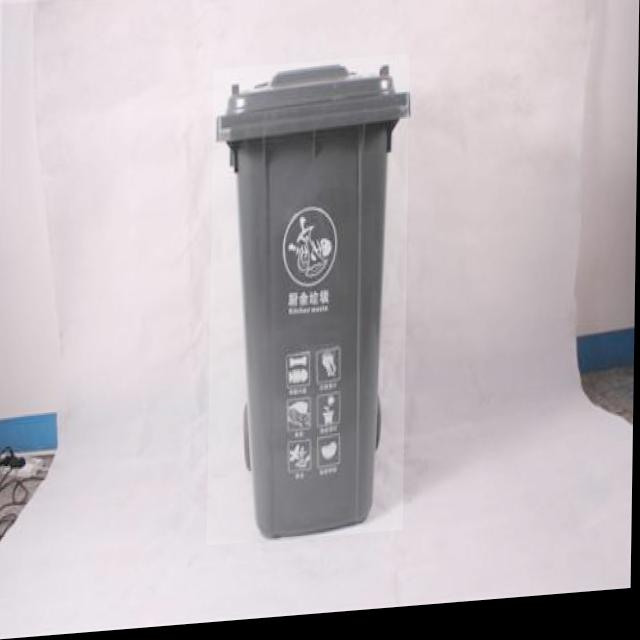garbage_bin: (208, 61, 410, 549)
